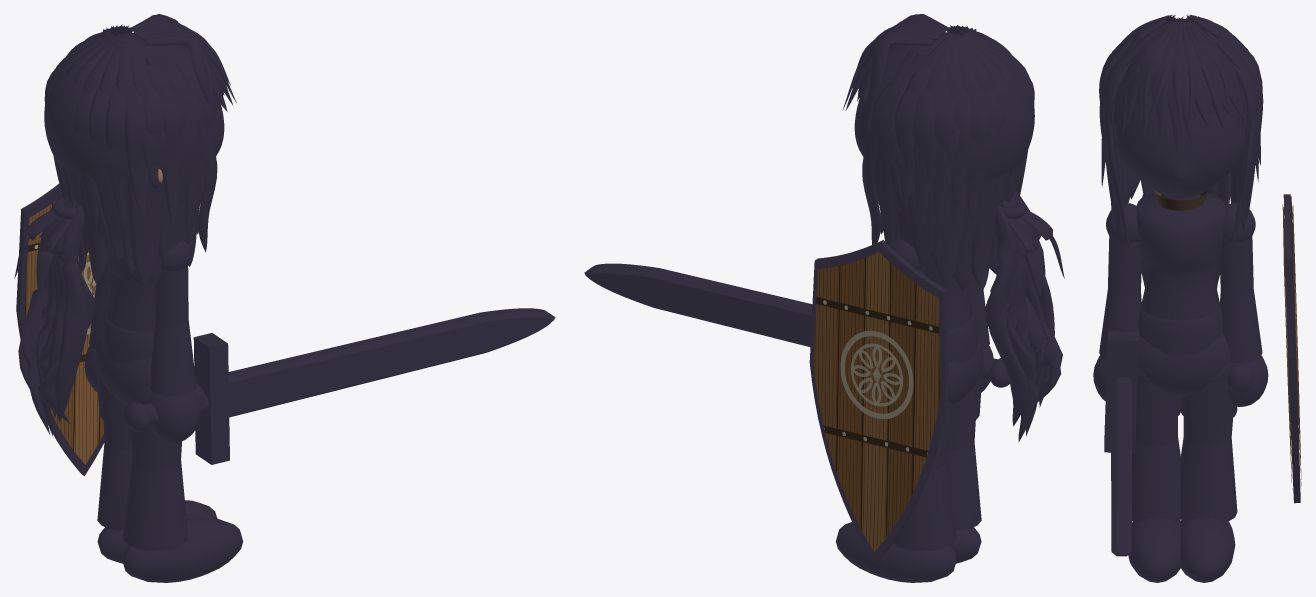
The model's file is lyra.glb.
3 renders of one model, left to right at view 1: azimuth 30°, elevation 25°; view 2: azimuth 150°, elevation 25°; view 3: azimuth 270°, elevation 25°, orthographic. The views are drawn at different scales.
Visible parts, largest first — view 1: ct_70_105, ct_500_8, ct_95_120, ct_95_121, escudoBase, ct_70_106, ct_170_95, ct_95_102, ct_95_126, ct_140_1, ct_70_115, ct_170_72 (+32 smaller); view 2: escudoBase, ct_70_105, ct_70_115, ct_500_8, ct_170_87, ct_95_127, ct_95_126, ct_95_120, ct_170_61, ct_170_37, ct_170_46, ct_170_62 (+35 smaller); view 3: ct_500_5, ct_140_2, ct_95_126, ct_70_105, ct_95_120, ct_140_1, ct_95_0, ct_95_127, ct_95_121, ct_70_3, ct_70_115, ct_95_112 (+45 smaller).
Part boxes in pixels (left/top/right/bottom): ct_70_105: left=228, top=308, right=555, bottom=417; ct_500_8: left=44, top=32, right=218, bottom=179; ct_95_120: left=122, top=461, right=187, bottom=551; ct_95_121: left=122, top=517, right=243, bottom=582; escudoBase: left=25, top=201, right=103, bottom=464; ct_70_106: left=193, top=333, right=229, bottom=464; ct_170_95: left=55, top=205, right=88, bottom=421; ct_95_102: left=149, top=320, right=196, bottom=396; ct_95_126: left=97, top=442, right=131, bottom=531; ct_140_1: left=106, top=269, right=154, bottom=332; ct_70_115: left=16, top=183, right=104, bottom=475; ct_170_72: left=120, top=44, right=148, bottom=218; escudoBase: left=813, top=252, right=940, bottom=551; ct_70_105: left=584, top=263, right=812, bottom=346; ct_70_115: left=809, top=240, right=948, bottom=563; ct_500_8: left=859, top=32, right=1034, bottom=182; ct_170_87: left=983, top=206, right=1029, bottom=426; ct_95_127: left=835, top=522, right=956, bottom=582; ct_95_126: left=893, top=462, right=956, bottom=551; ct_95_120: left=947, top=442, right=981, bottom=531; ct_170_61: left=912, top=44, right=957, bottom=235; ct_170_37: left=862, top=51, right=911, bottom=244; ct_170_46: left=933, top=49, right=966, bottom=288; ct_170_62: left=932, top=44, right=959, bottom=224; ct_500_5: left=1116, top=110, right=1245, bottom=198; ct_140_2: left=1136, top=192, right=1225, bottom=272; ct_95_126: left=1180, top=436, right=1237, bottom=522; ct_70_105: left=1111, top=377, right=1131, bottom=556; ct_95_120: left=1132, top=436, right=1180, bottom=522; ct_140_1: left=1141, top=262, right=1220, bottom=320; ct_95_0: left=1138, top=333, right=1230, bottom=395; ct_95_127: left=1180, top=518, right=1235, bottom=582; ct_95_121: left=1128, top=518, right=1180, bottom=582; ct_70_3: left=1138, top=307, right=1223, bottom=355; ct_70_115: left=1283, top=194, right=1300, bottom=503; ct_95_112: left=1220, top=289, right=1262, bottom=362.
Bounding box in the file's own units: 1.35 × 1.42 × 0.5043.
18 materials, 6 textured.
